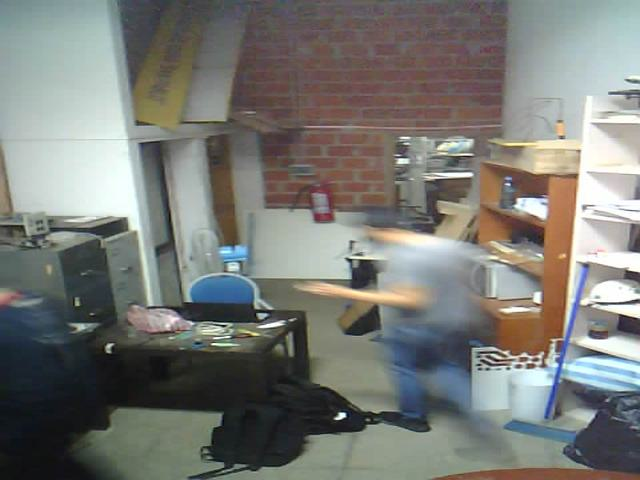person: (296, 161, 512, 452), (2, 257, 134, 480)
